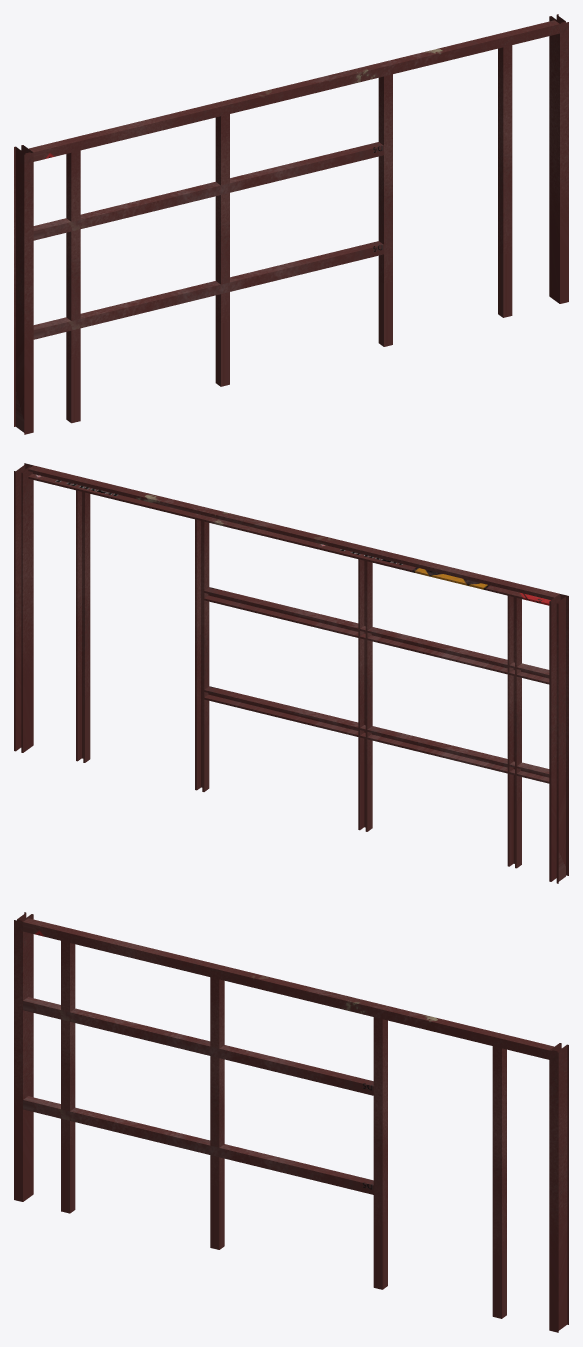
Rendered from CS_formwork_system_02.FBX.
3 renders of one model, top to bottom at view 1: azimuth 30°, elevation 25°; view 2: azimuth 150°, elevation 25°; view 3: azimuth 330°, elevation 25°, orthographic.
Parts seen in each view (by area): view 1: SM_formwork_system_02; view 2: SM_formwork_system_02; view 3: SM_formwork_system_02.
Part boxes in pixels (box(x1,y1,x2,y2)): SM_formwork_system_02: box(14, 14, 568, 434); SM_formwork_system_02: box(14, 463, 568, 883); SM_formwork_system_02: box(14, 912, 568, 1332).
Bounding box in the file's own units: 600 × 20 × 295.
